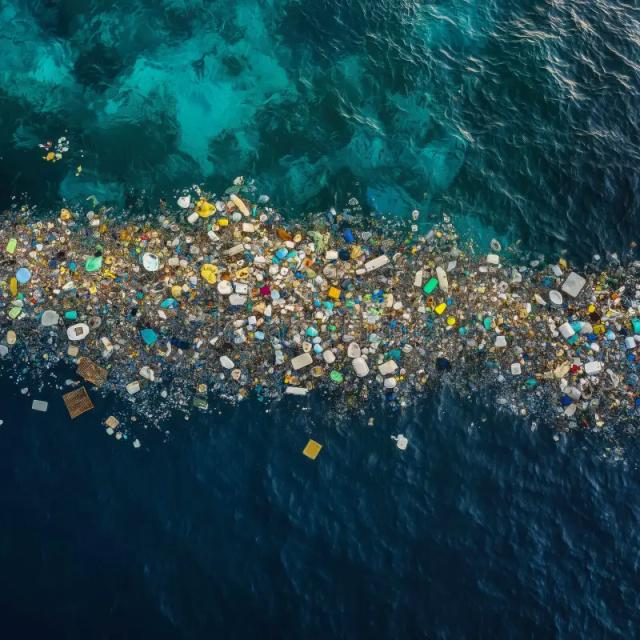oil spill: (0, 0, 511, 238)
plastic watse: (1, 196, 639, 439)
